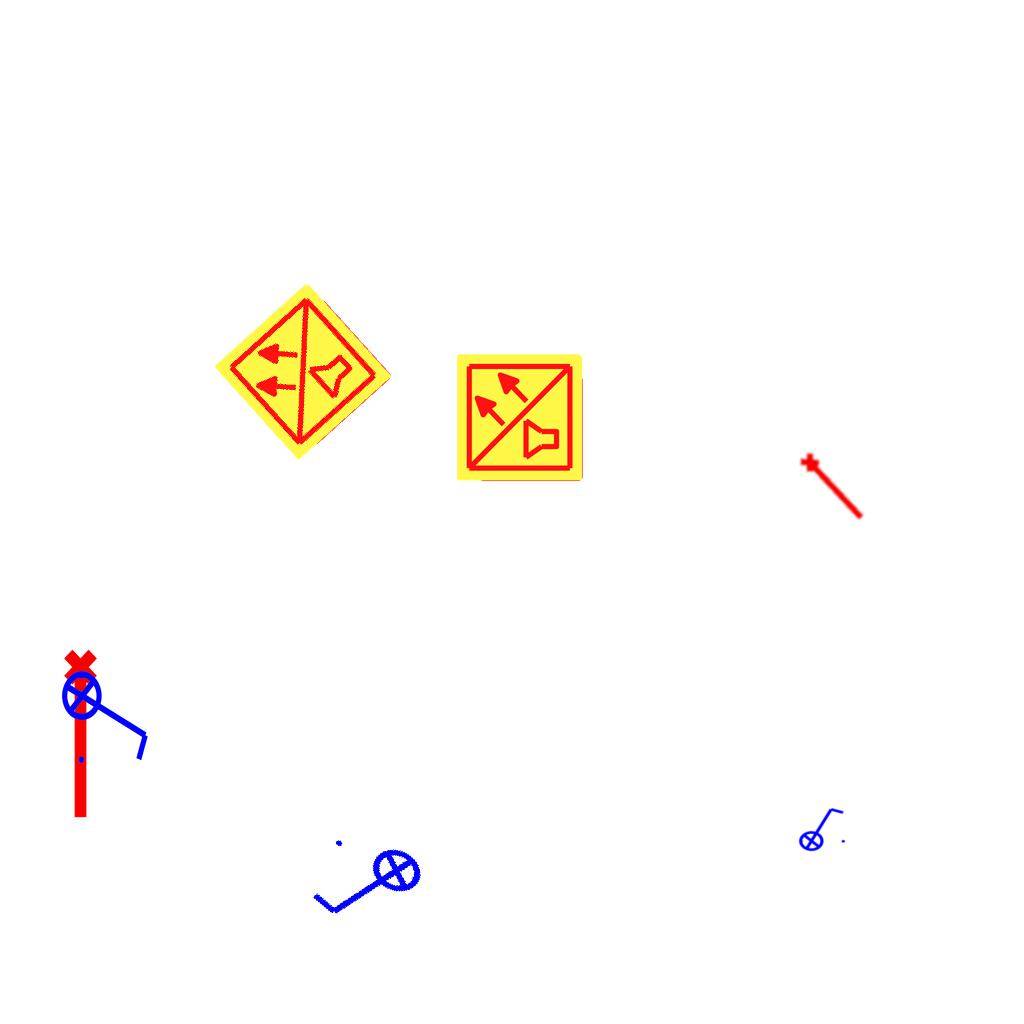ASR_Ansaugoeffnung: (60, 647, 106, 823), (795, 446, 873, 527)
Ausschalter_beleuchtet: (298, 819, 442, 955), (60, 657, 156, 769), (792, 804, 848, 852)
OKW_Multisensormelder_(Kombination_optischer_Rauch-Kahlenmonoxid_Waerme-Melder): (209, 277, 397, 465), (454, 351, 586, 483)
